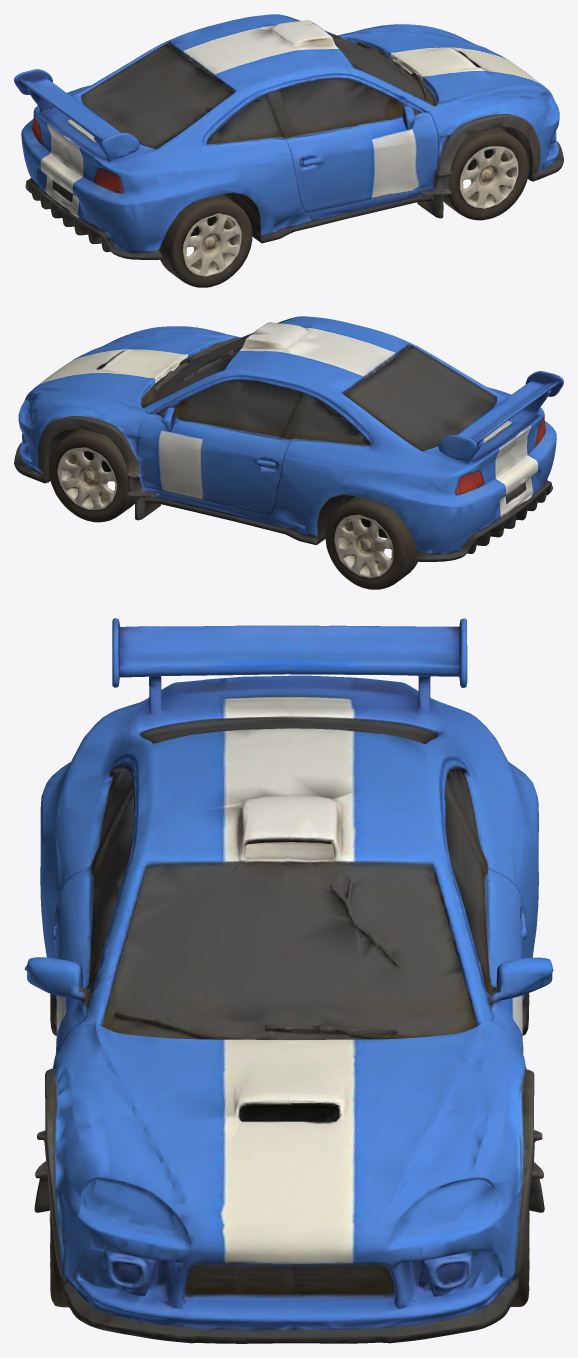
Rendered from fennec.glb.
3 views of the same model, one above another, from view 1: azimuth 30°, elevation 25°; view 2: azimuth 150°, elevation 25°; view 3: azimuth 270°, elevation 25° (orthographic). The views are drawn at different scales.
Parts seen in each view (by area): view 1: node_eef5f75c-c5ac-4ba1-8b4d-9bcfb499378b; view 2: node_eef5f75c-c5ac-4ba1-8b4d-9bcfb499378b; view 3: node_eef5f75c-c5ac-4ba1-8b4d-9bcfb499378b.
Boxes of the visible parts, <box> form: node_eef5f75c-c5ac-4ba1-8b4d-9bcfb499378b: <box>14,14,563,287</box>; node_eef5f75c-c5ac-4ba1-8b4d-9bcfb499378b: <box>14,316,563,589</box>; node_eef5f75c-c5ac-4ba1-8b4d-9bcfb499378b: <box>24,618,553,1343</box>.
Bounding box in the file's own units: 0.9999 × 0.3607 × 0.4801.
Materials: 1 (1 with a texture image).
